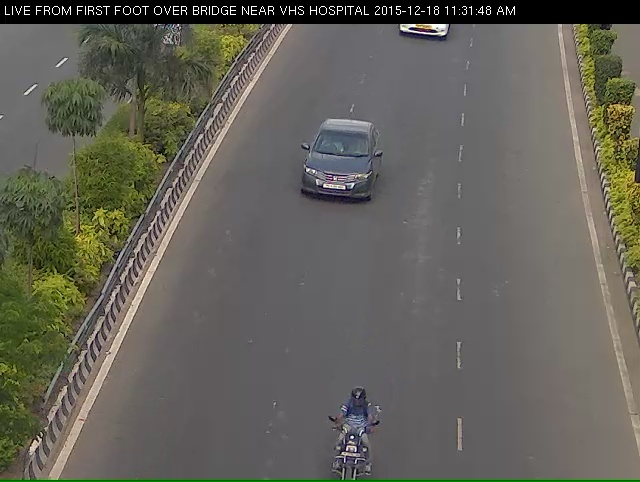Car: (285, 121, 386, 234)
Person: (315, 420, 391, 482)
